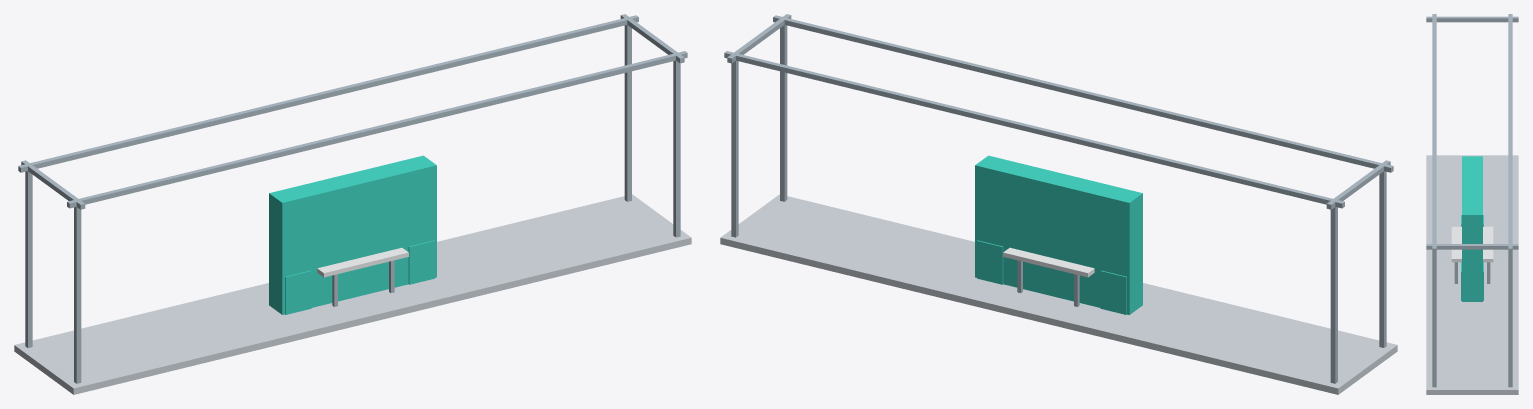
The picture shows the model from 3 angles, left to right: view 1: azimuth 30°, elevation 25°; view 2: azimuth 150°, elevation 25°; view 3: azimuth 270°, elevation 25°; orthographic projection. The views are drawn at different scales.
Parts seen in each view (by area): view 1: Exhibition Booth Concept; view 2: Exhibition Booth Concept; view 3: Exhibition Booth Concept.
Boxes of the visible parts, left/top/right/bottom form: Exhibition Booth Concept: left=14, top=14, right=691, bottom=394; Exhibition Booth Concept: left=720, top=14, right=1397, bottom=394; Exhibition Booth Concept: left=1426, top=14, right=1518, bottom=394.
Size of the model in its own units: 12 by 3.49 by 2.
